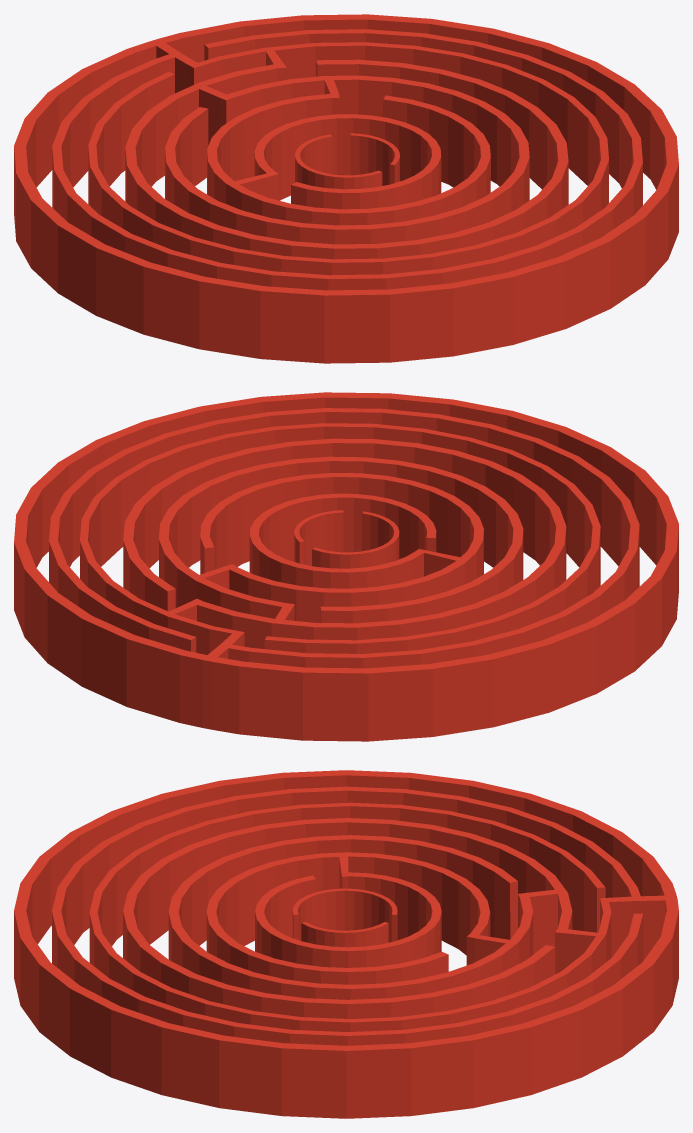
File: labirinto.fbx
3 views of the same model, one above another, from view 1: azimuth 30°, elevation 25°; view 2: azimuth 150°, elevation 25°; view 3: azimuth 270°, elevation 25° (orthographic).
Visible parts, largest first — view 1: Circle.007; view 2: Circle.007; view 3: Circle.007.
Part boxes in pixels (bbox=[...]): Circle.007: bbox=[14, 14, 678, 363]; Circle.007: bbox=[14, 392, 678, 741]; Circle.007: bbox=[14, 770, 678, 1118].
Size of the model in its own units: 377 by 42.63 by 377.
